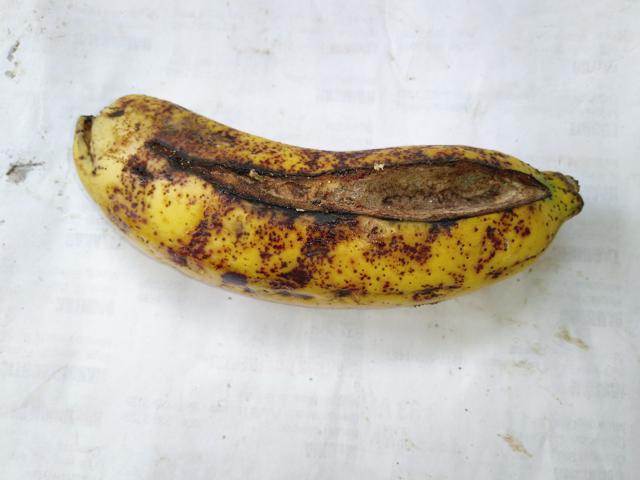rotten: (141, 132, 597, 252)
